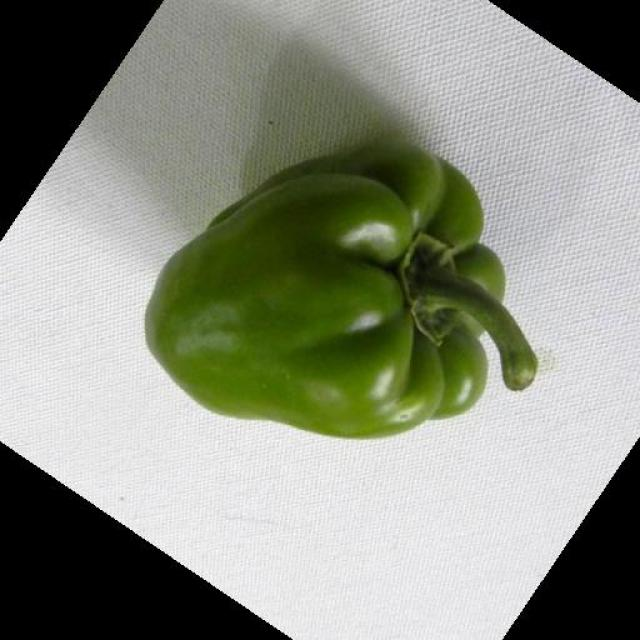Fresh_Capsicum: (212, 69, 446, 331), (143, 196, 450, 242)
